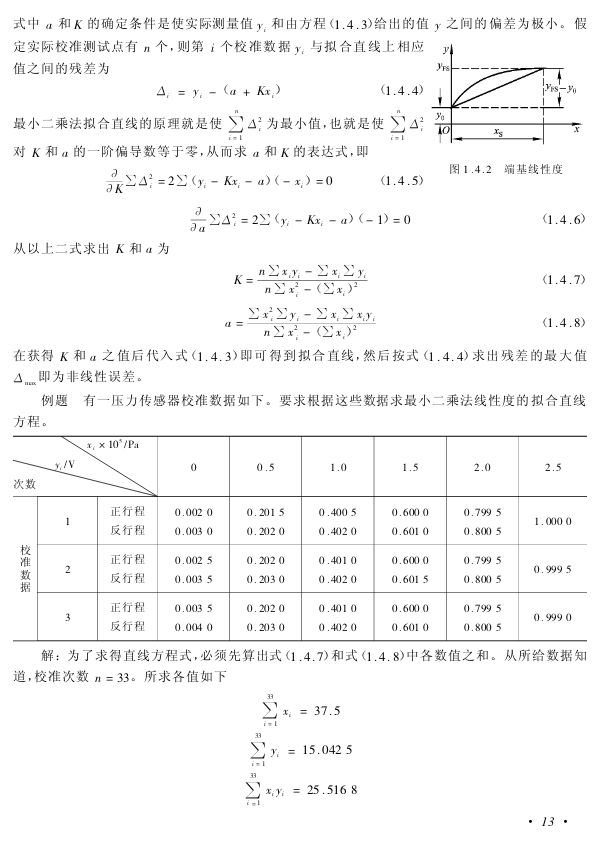table: (12, 435, 589, 642)
